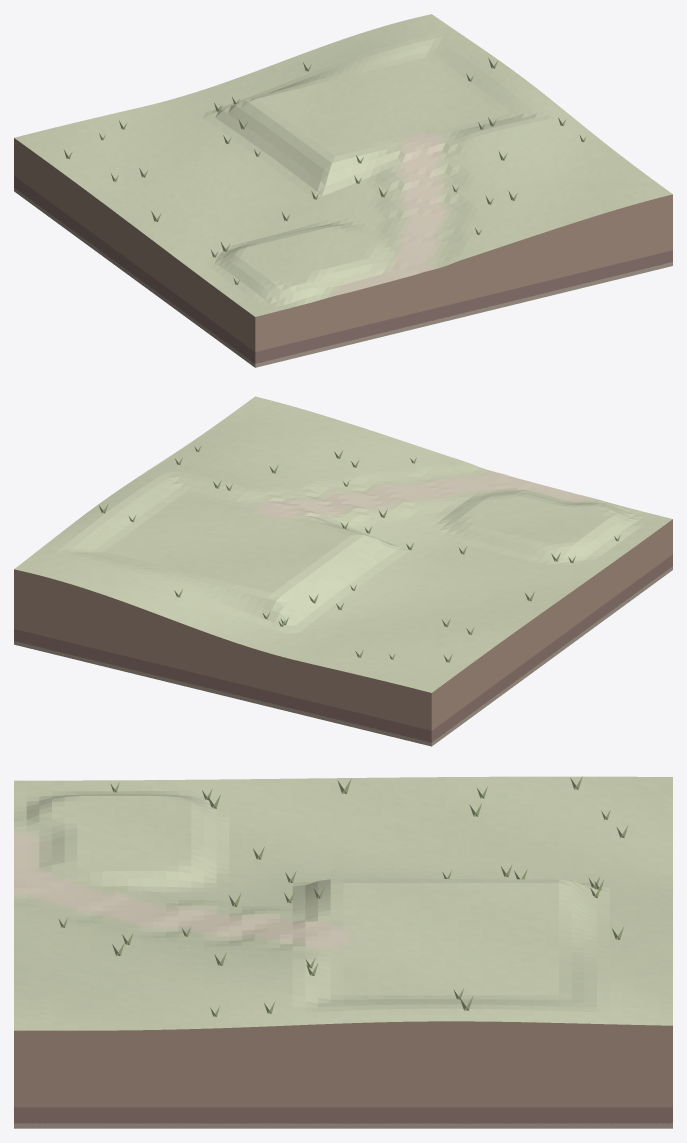
The picture shows the model from 3 angles, top to bottom: view 1: azimuth 30°, elevation 25°; view 2: azimuth 150°, elevation 25°; view 3: azimuth 270°, elevation 25°; orthographic projection. The views are drawn at different scales.
Parts seen in each view (by area): view 1: proc_ground, proc_skirt, proc_grass; view 2: proc_ground, proc_skirt, proc_grass; view 3: proc_ground, proc_skirt, proc_grass.
Part boxes in pixels (x1,y1,x2,y2): proc_ground: (14,14,672,316); proc_skirt: (14,138,672,367); proc_grass: (63,58,586,284); proc_ground: (14,396,672,692); proc_skirt: (14,519,672,746); proc_grass: (98,445,620,662); proc_ground: (14,776,672,1030); proc_skirt: (14,1021,672,1128); proc_grass: (58,776,628,1016).
Bounding box in the file's own units: 8 × 1.64 × 8.
